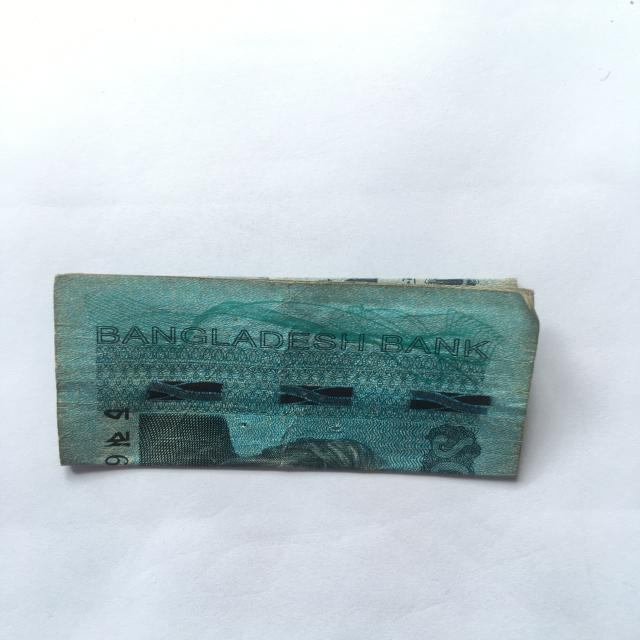Taka: (43, 267, 526, 481)
